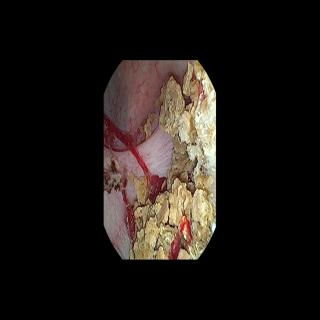stone: (129, 62, 215, 258), (140, 112, 157, 139)
